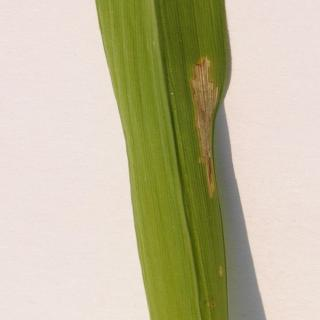Hawar-Daun: (173, 50, 240, 194)
